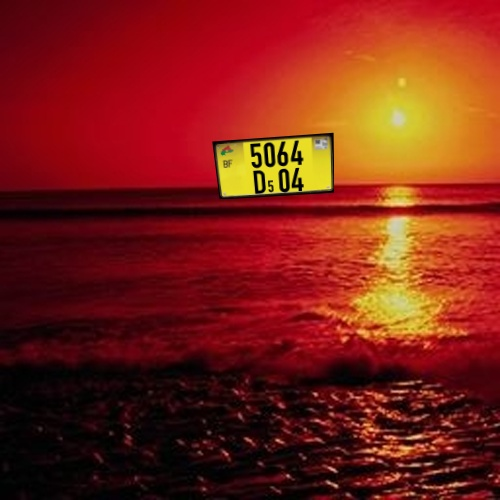plate: (202, 128, 342, 213)
